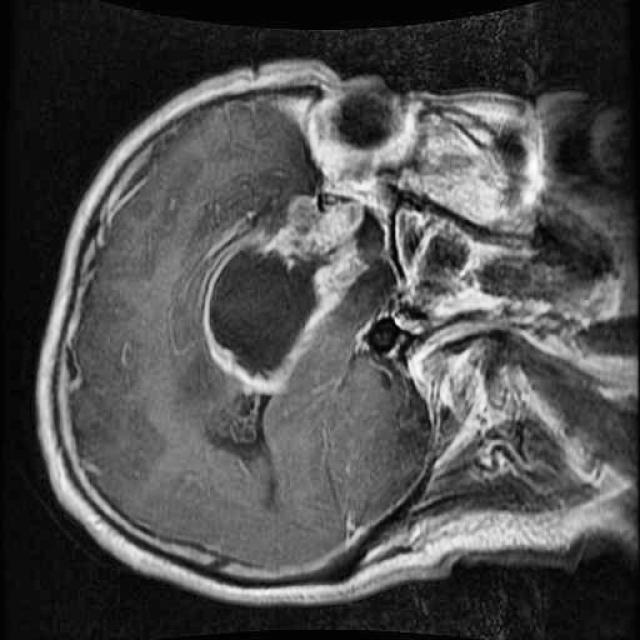Tumor: (192, 172, 376, 410)
